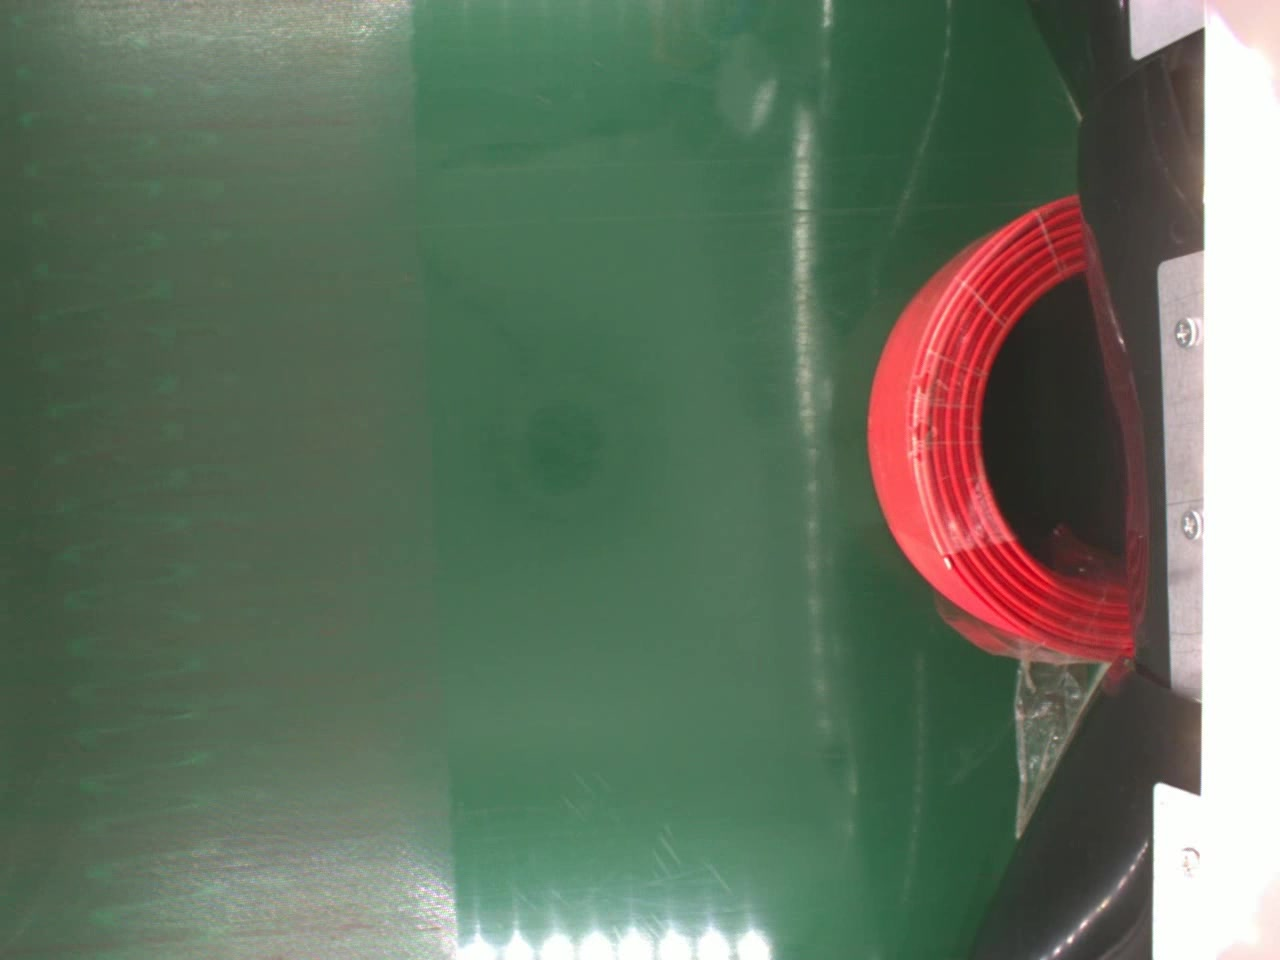red: (862, 194, 1137, 662)
